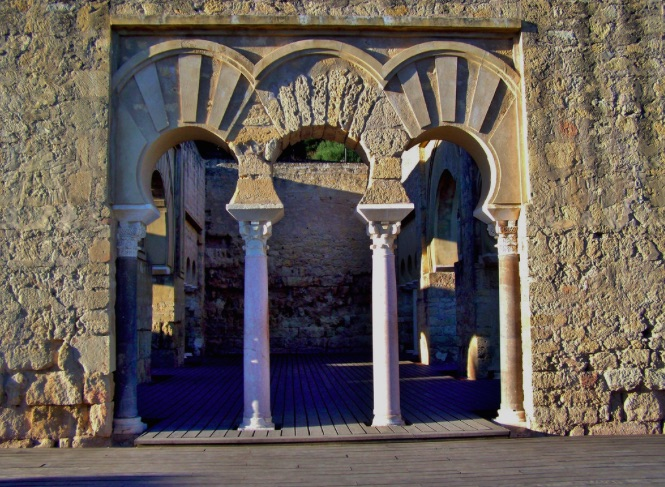arco-herradura: (124, 114, 258, 255), (256, 113, 384, 253), (385, 113, 510, 250)
